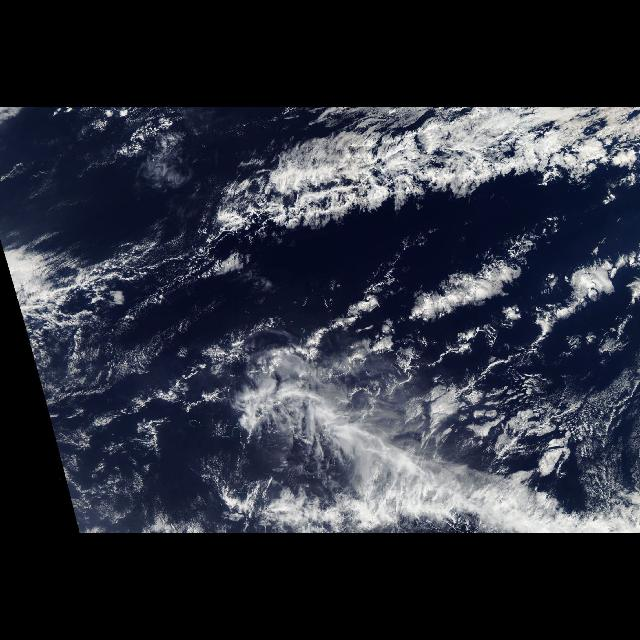Fish: (188, 108, 634, 248)
Sugar: (36, 331, 210, 533), (530, 365, 640, 491)
